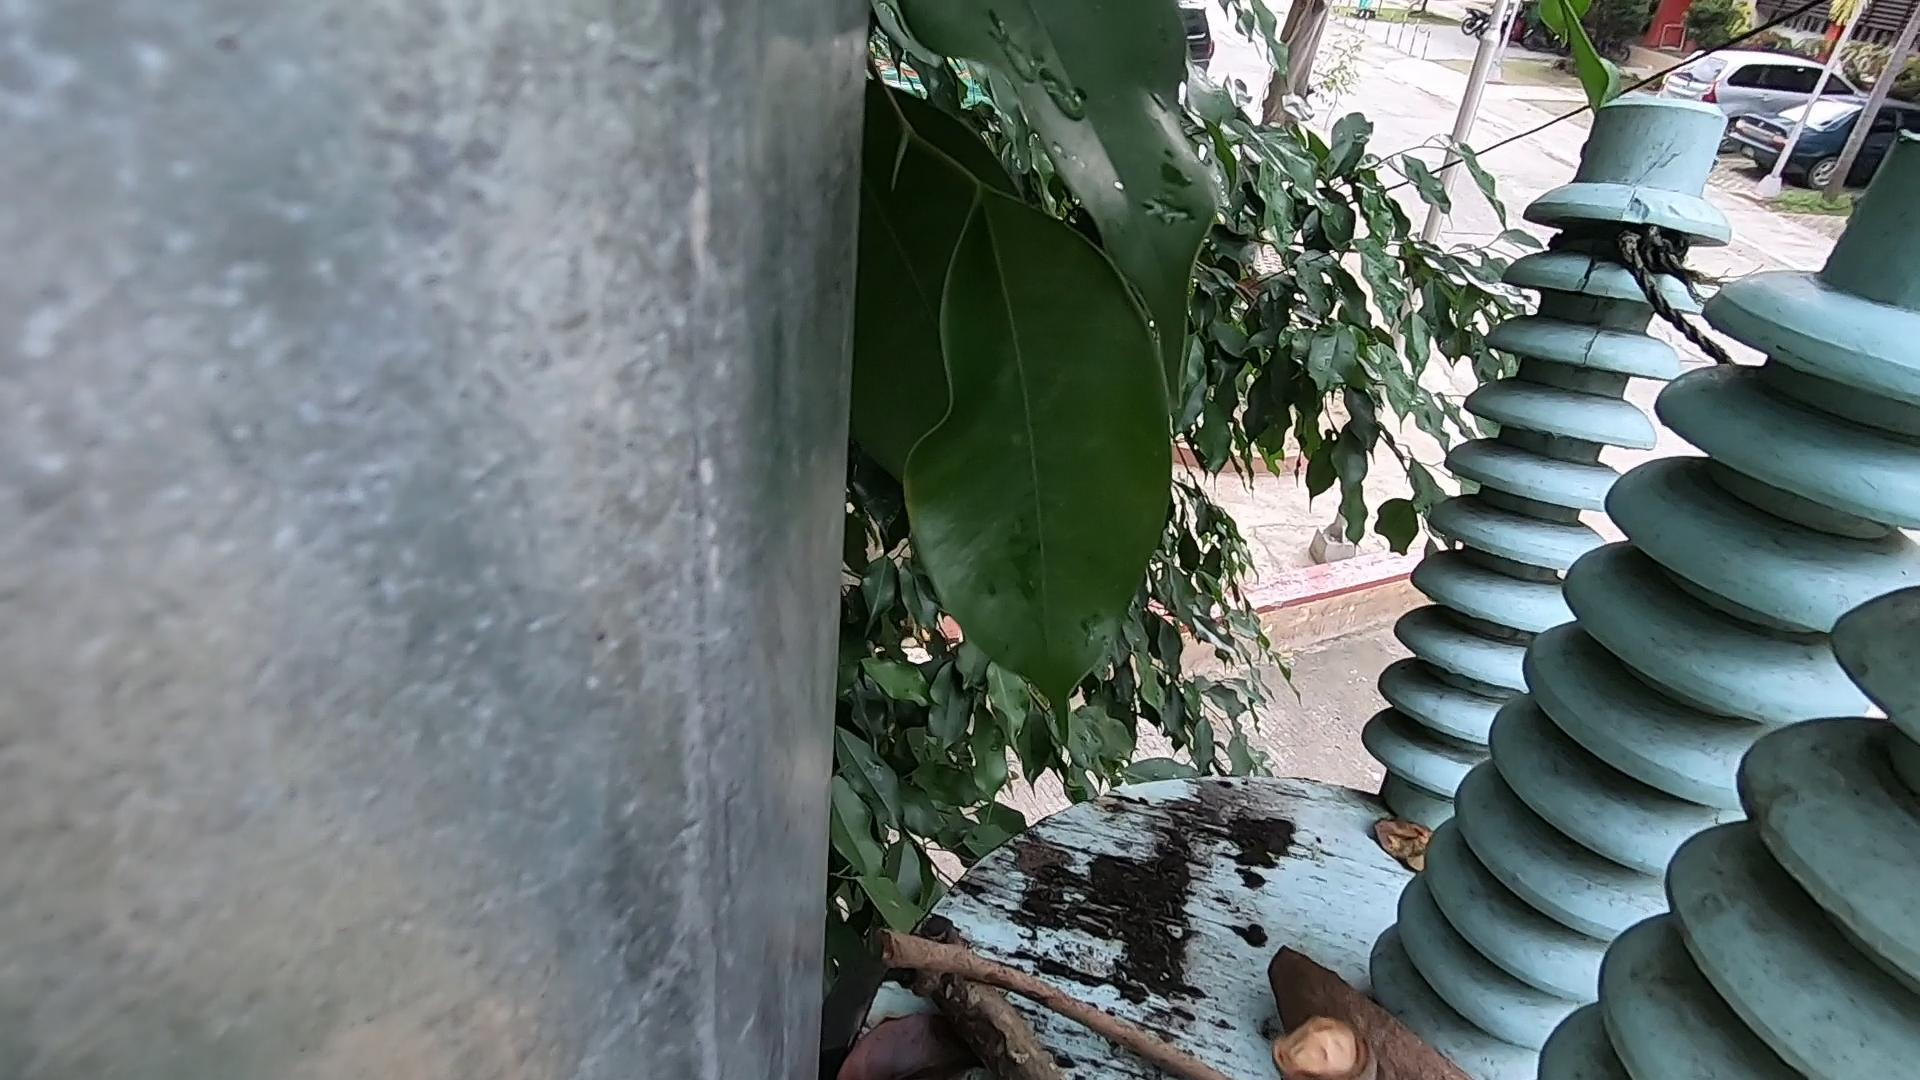branch with leaves: (922, 920, 1054, 1080)
leaf: (799, 986, 984, 1080), (1337, 796, 1480, 909)
mahogany fruit: (1255, 901, 1497, 1069)
tree branch: (876, 930, 1255, 1080), (1269, 980, 1443, 1080)
